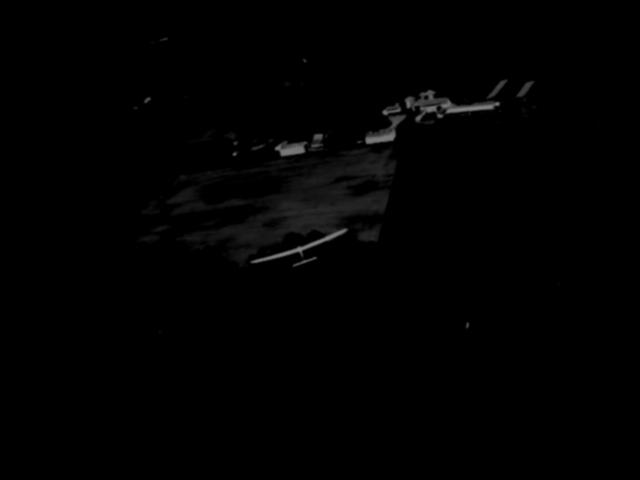hedef: (249, 212, 364, 289)
